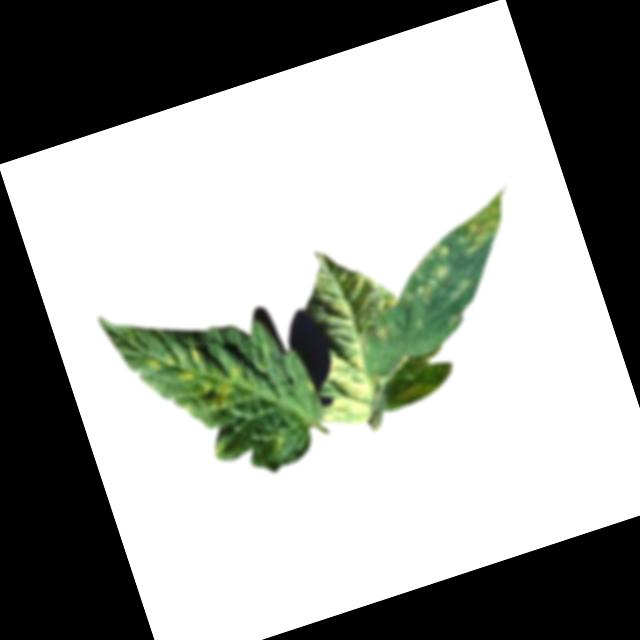Leaf_Mold: (304, 339, 383, 435), (448, 194, 514, 255), (145, 341, 209, 391), (396, 266, 456, 309), (198, 365, 247, 414), (421, 241, 454, 266), (368, 321, 398, 347)
